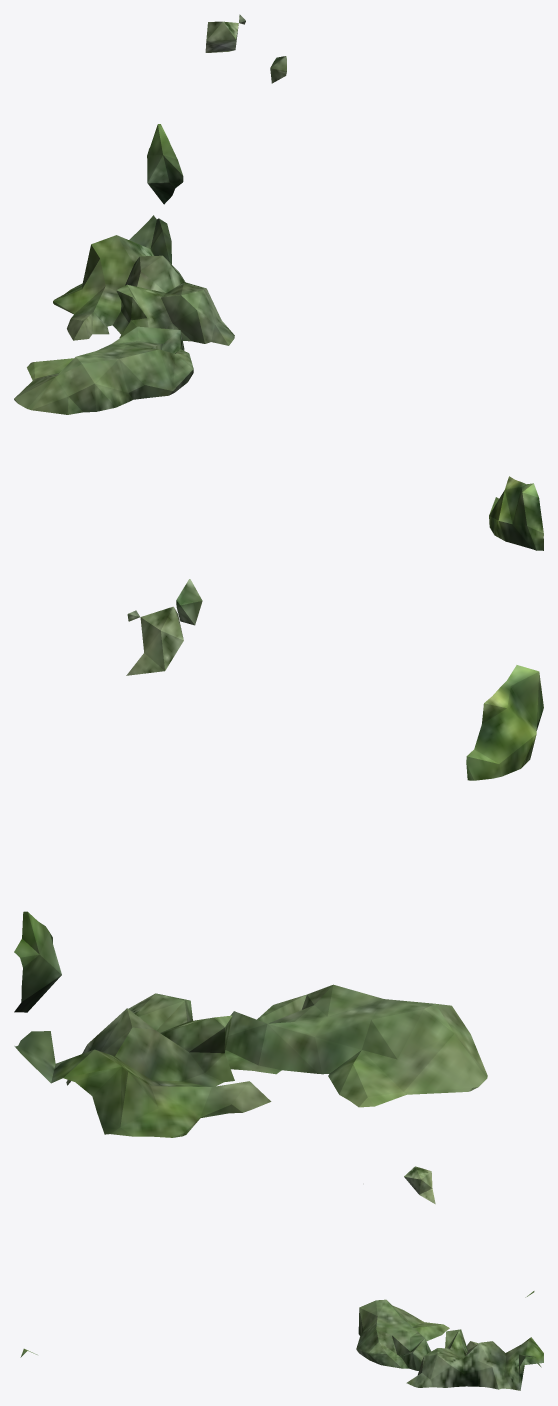
3 renders of one model, top to bottom at view 1: azimuth 30°, elevation 25°; view 2: azimuth 150°, elevation 25°; view 3: azimuth 270°, elevation 25°, orthographic. The views are drawn at different scales.
Size of the model in its own units: 8.98 by 11.24 by 24.88.
1 material, 1 textured.
